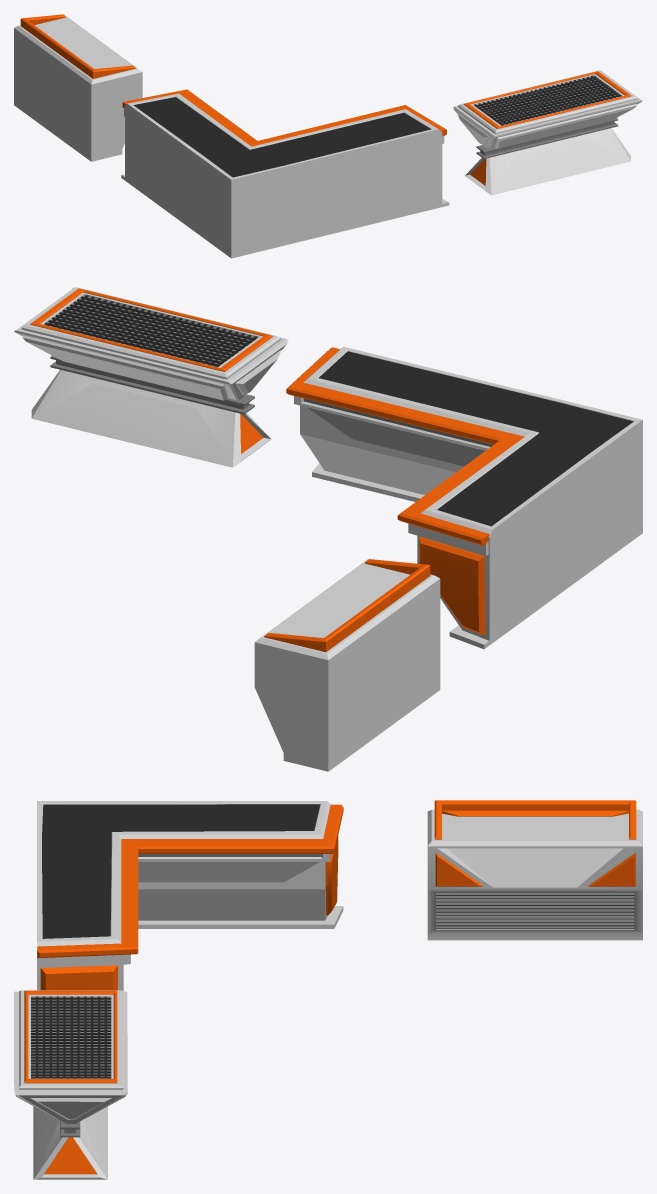
File: Workshop Tables.obj
3 renders of one model, top to bottom at view 1: azimuth 30°, elevation 25°; view 2: azimuth 150°, elevation 25°; view 3: azimuth 270°, elevation 25°, orthographic. The views are drawn at different scales.
Visible parts, largest first — view 1: group6 pCube66, group4 pCube131, group6 pCube73, group3 pCube74, group3 pCube75, pCube67 group6, group3 pCube83, group4 pCube147, group3 pCube123, group3 pCube76, group3 pCube130; view 2: group6 pCube66, group4 pCube131, group6 pCube73, group3 pCube74, pCube67 group6, group3 pCube75, group6 pCube72, group3 pCube83, group6 pCube70, group4 pCube147, group3 pCube123, group3 pCube130 (+3 smaller); view 3: group4 pCube131, group6 pCube66, group6 pCube73, pCube67 group6, group4 pCube147, group3 pCube74, group6 pCube70, group3 pCube83, group3 pCube123, group3 pCube75, group6 pCube68, group6 pCube71 (+18 smaller).
Boxes of the visible parts, box(x1,y1,x2,y2) form: group6 pCube66: box(121, 93, 449, 258); group4 pCube131: box(14, 14, 142, 161); group6 pCube73: box(133, 97, 430, 177); group3 pCube74: box(465, 128, 630, 195); group3 pCube75: box(452, 70, 642, 148); pCube67 group6: box(122, 89, 446, 146); group3 pCube83: box(458, 70, 637, 134); group4 pCube147: box(20, 14, 135, 78); group3 pCube123: box(474, 77, 621, 125); group3 pCube76: box(476, 118, 618, 158); group3 pCube130: box(463, 71, 631, 128); group6 pCube66: box(300, 346, 642, 649); group4 pCube131: box(254, 559, 440, 771); group6 pCube73: box(319, 351, 633, 526); group3 pCube74: box(31, 369, 271, 467); pCube67 group6: box(286, 347, 524, 545); group3 pCube75: box(14, 287, 288, 400); group6 pCube72: box(419, 536, 485, 635); group3 pCube83: box(21, 287, 280, 379); group6 pCube70: box(307, 407, 485, 466); group4 pCube147: box(264, 559, 430, 652); group3 pCube123: box(45, 296, 257, 366); group3 pCube130: box(30, 288, 272, 371); group4 pCube131: box(427, 809, 642, 940); group6 pCube66: box(37, 801, 343, 991); group6 pCube73: box(42, 804, 320, 938); pCube67 group6: box(37, 804, 343, 958); group4 pCube147: box(434, 800, 636, 839); group3 pCube74: box(33, 1106, 107, 1179); group6 pCube70: box(138, 862, 319, 882); group3 pCube83: box(19, 990, 123, 1089); group3 pCube123: box(31, 999, 111, 1076); group3 pCube75: box(14, 991, 127, 1123); group6 pCube68: box(37, 854, 331, 967); group6 pCube71: box(40, 965, 117, 990).
Bounding box in the file's own units: 616 × 128 × 598.
